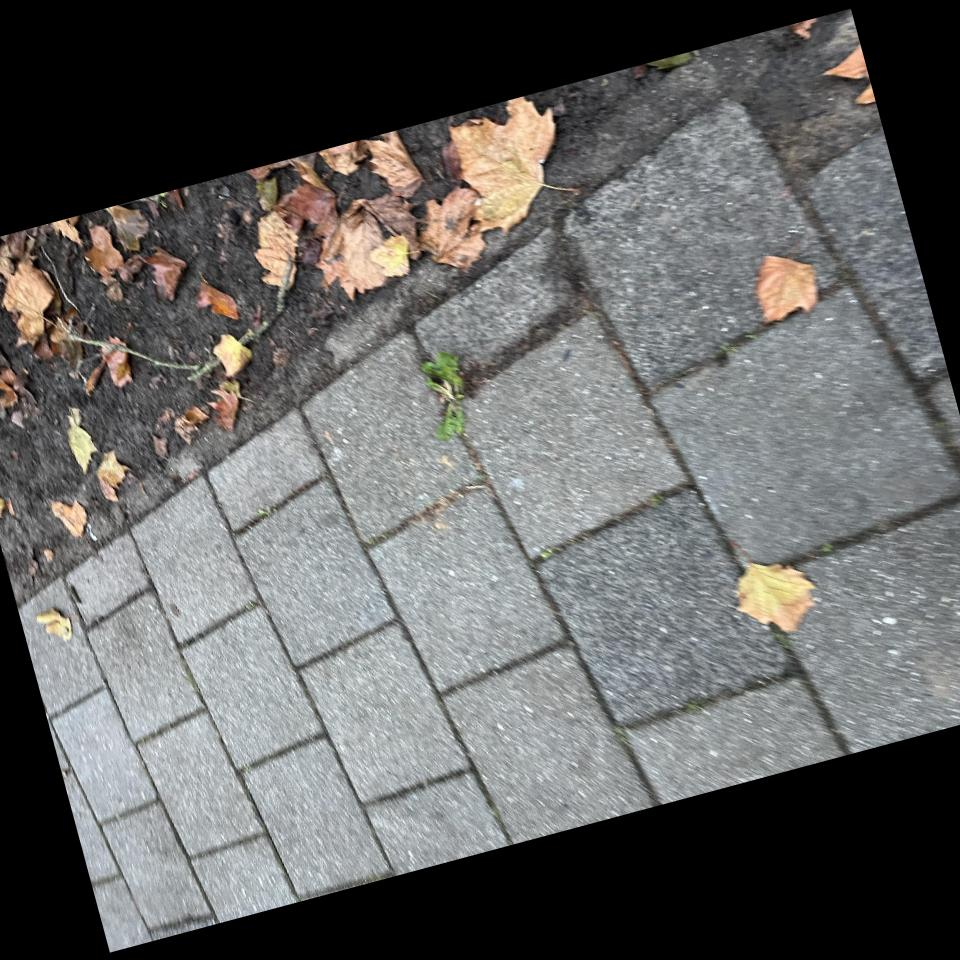weed: (425, 363, 467, 437)
